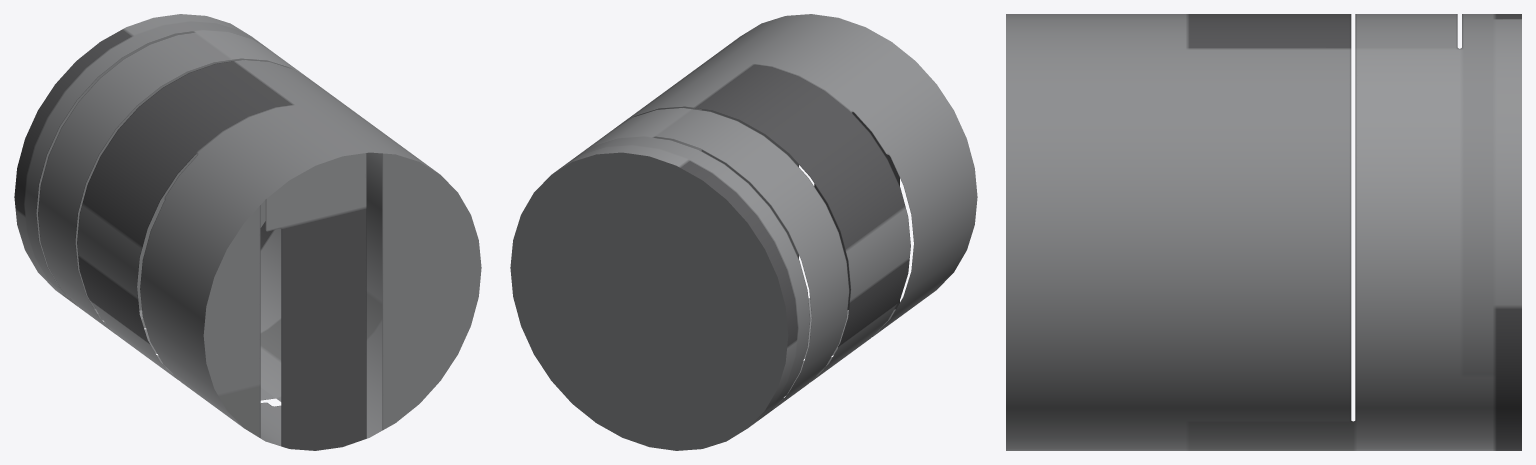
3 renders of one model, left to right at view 1: azimuth 30°, elevation 25°; view 2: azimuth 150°, elevation 25°; view 3: azimuth 270°, elevation 25°, orthographic. The views are drawn at different scales.
Bounding box in the file's own units: 0.7142 × 0.7142 × 0.8424.
